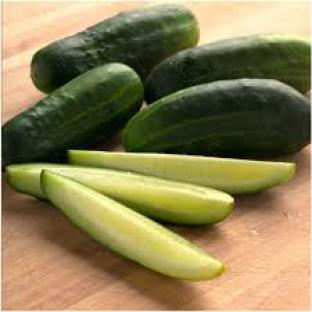Cucumber: (42, 171, 224, 280), (31, 5, 198, 92), (124, 80, 310, 158), (2, 64, 142, 166), (6, 164, 232, 224), (146, 35, 310, 102), (68, 150, 295, 194)
